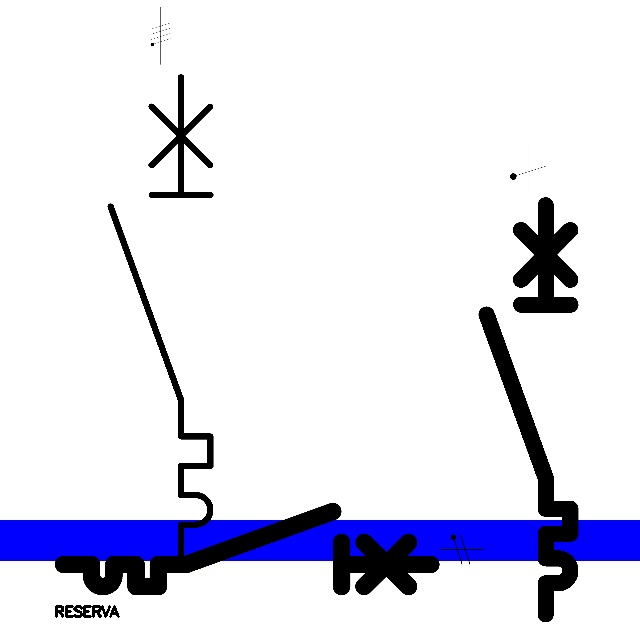interruptor_termomagnetico: (98, 64, 223, 573), (476, 194, 581, 624), (54, 502, 440, 596)
